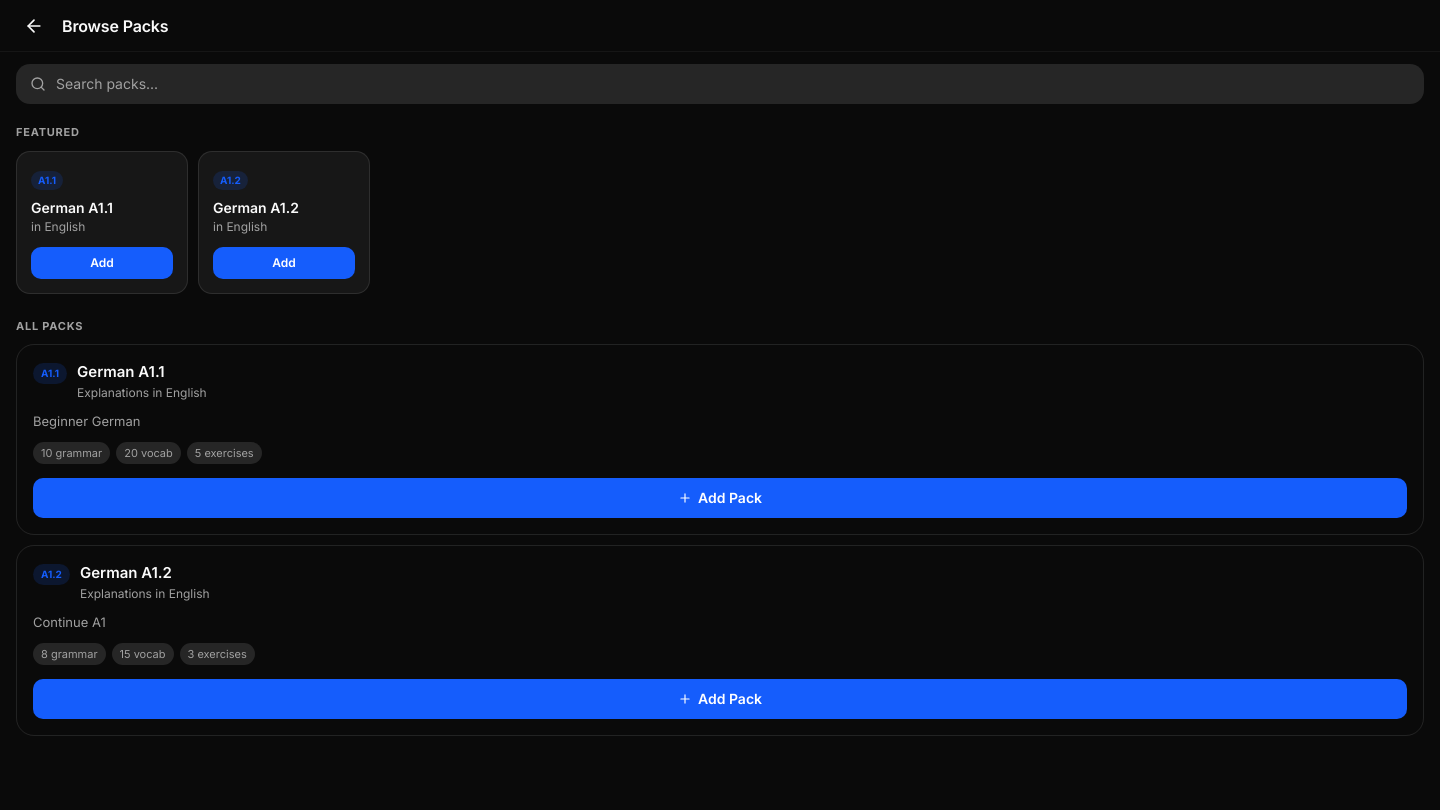
Scenario: ExplorePacksView › filters packs by search query
Step 1. Type "A1.2" into the field with placeholder "Search packs..." → (733, 84), box [56,74,1410,94]
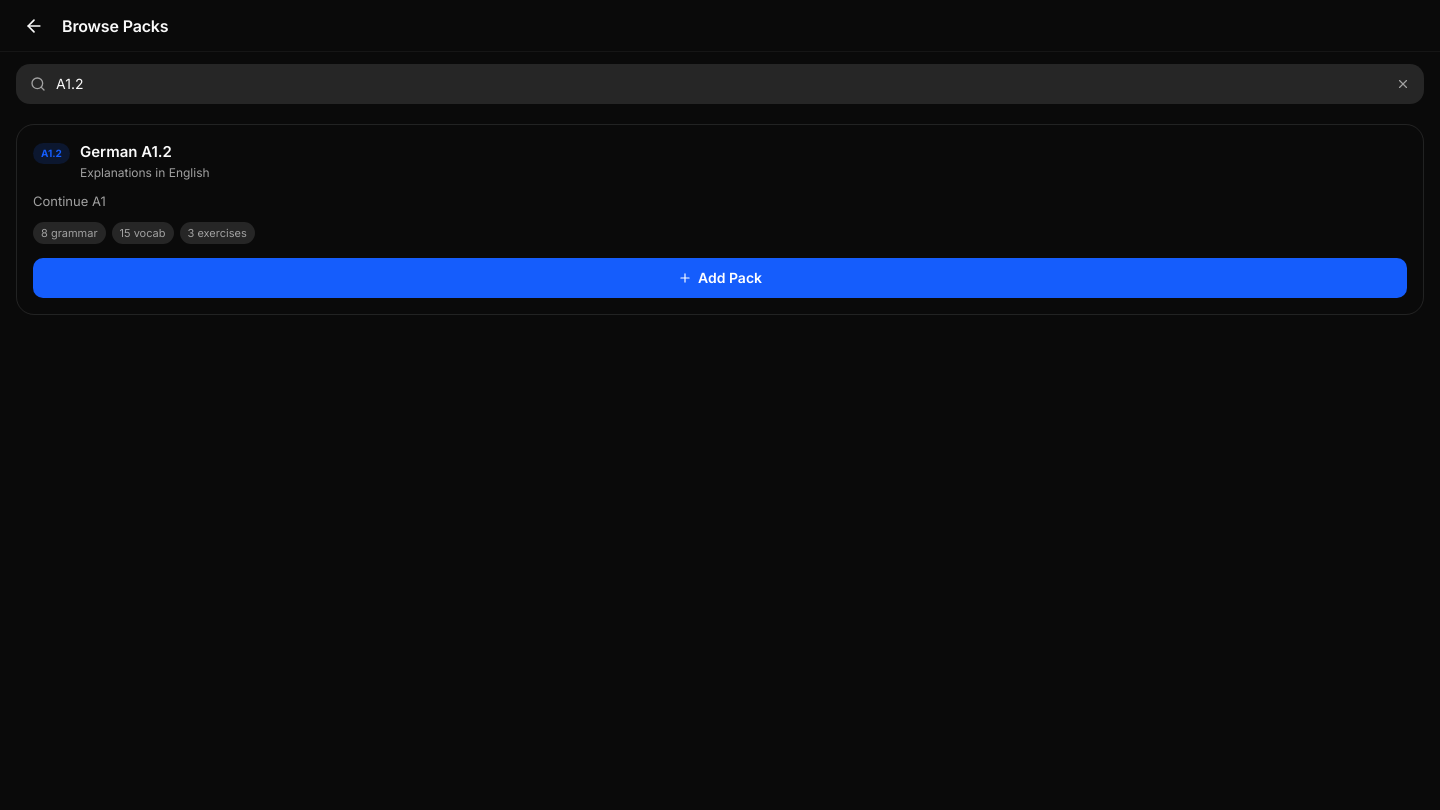
Check: the text "Featured" is gone
Check: the text "All Packs" is gone
